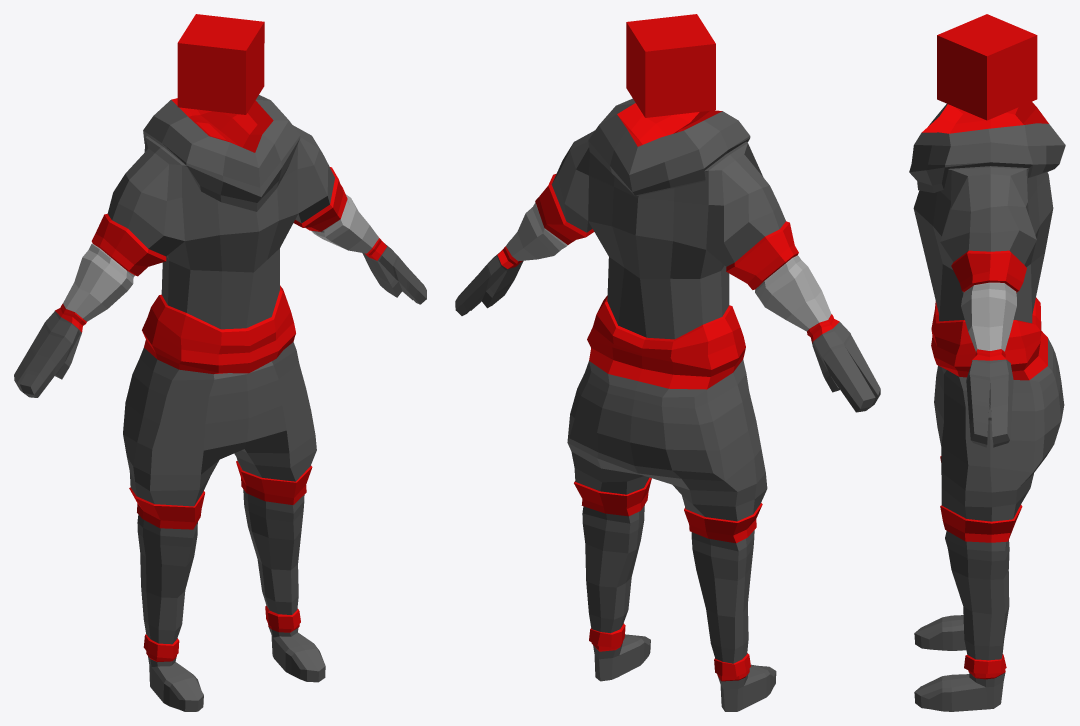
The model's file is v-ninja.fbx.
3 renders of one model, left to right at view 1: azimuth 30°, elevation 25°; view 2: azimuth 150°, elevation 25°; view 3: azimuth 270°, elevation 25°, orthographic. The views are drawn at different scales.
Visible parts, largest first — view 1: pCube4, pCube10; view 2: pCube4, pCube10; view 3: pCube4, pCube10.
Boxes of the visible parts, bbox=[...] form: pCube4: bbox=[14, 95, 426, 711]; pCube10: bbox=[177, 14, 264, 114]; pCube4: bbox=[455, 98, 880, 711]; pCube10: bbox=[626, 14, 715, 117]; pCube4: bbox=[909, 102, 1065, 711]; pCube10: bbox=[937, 14, 1037, 120].
Bounding box in the file's own units: 66.11 × 99.91 × 22.19.
